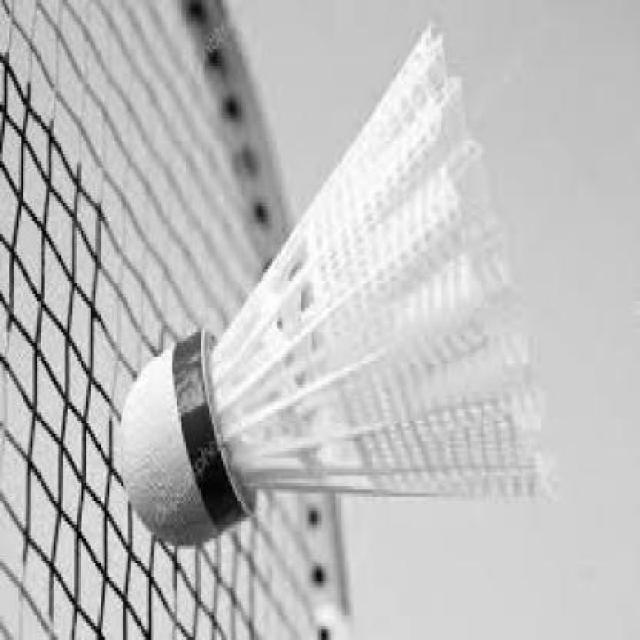Shuttlecock: (123, 28, 559, 548)
